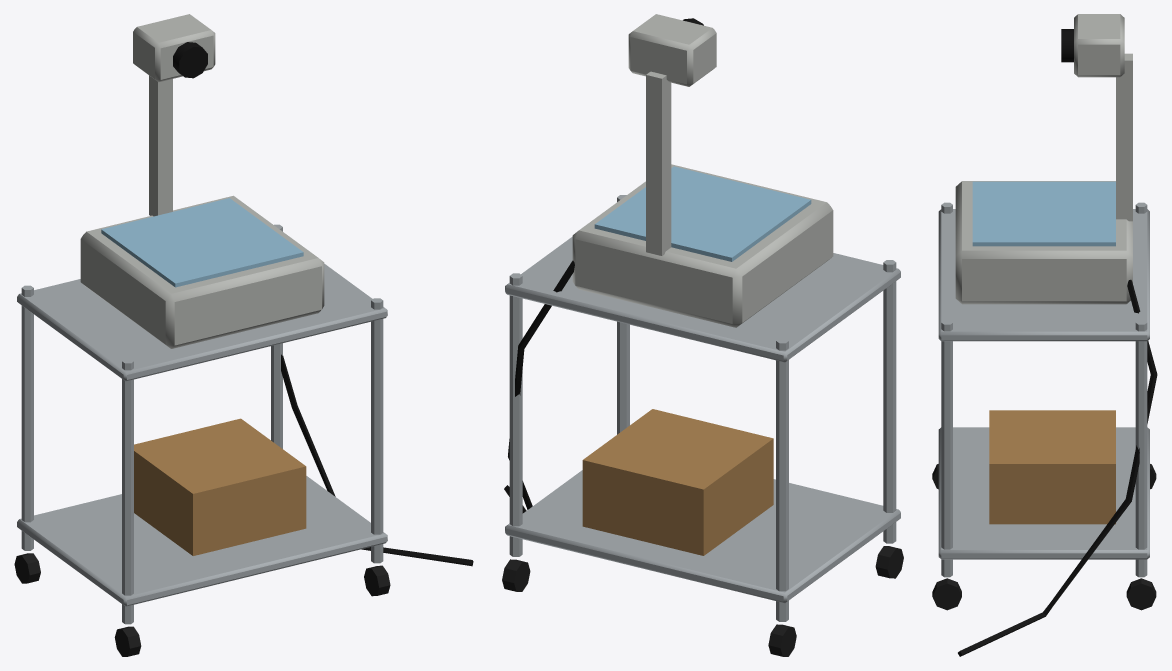
File: projector_cart.glb
The picture shows the model from 3 angles, left to right: view 1: azimuth 30°, elevation 25°; view 2: azimuth 150°, elevation 25°; view 3: azimuth 270°, elevation 25°; orthographic projection. The views are drawn at different scales.
Visible parts, largest first — view 1: ProjectorCart; view 2: ProjectorCart; view 3: ProjectorCart.
Part boxes in pixels (x1=…): ProjectorCart: x1=14, y1=14, x2=473, y2=656; ProjectorCart: x1=502, y1=14, x2=903, y2=656; ProjectorCart: x1=932, y1=14, x2=1157, y2=656.
Size of the model in its own units: 0.9557 by 1.37 by 0.533.
